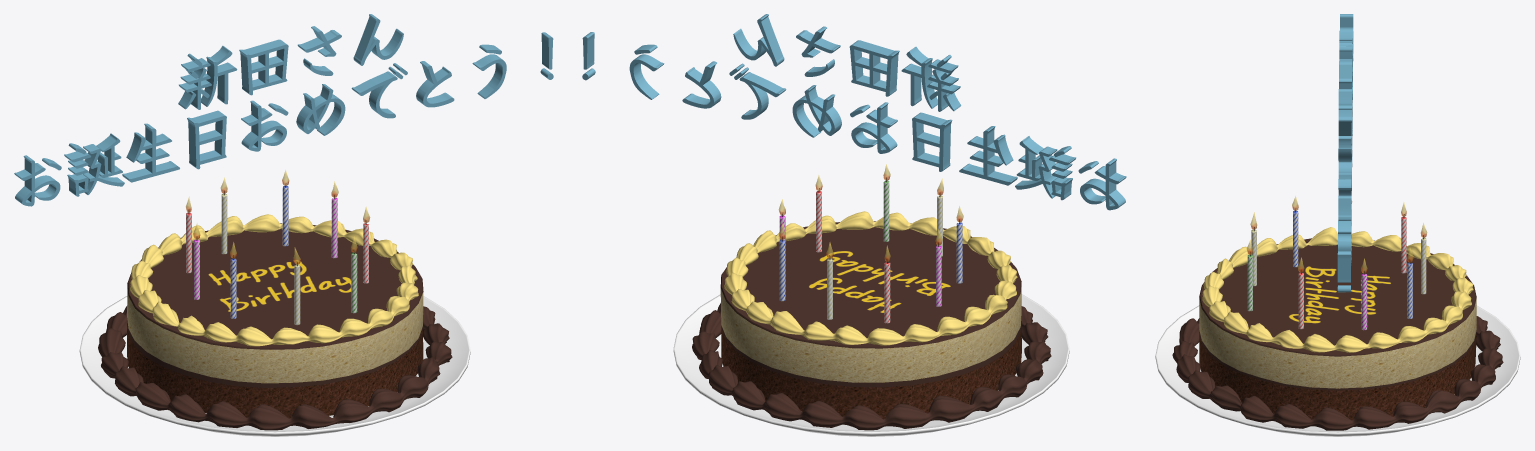
File: asset.glb
The picture shows the model from 3 angles, left to right: view 1: azimuth 30°, elevation 25°; view 2: azimuth 150°, elevation 25°; view 3: azimuth 270°, elevation 25°; orthographic projection. The views are drawn at different scales.
Visible parts, largest first — view 1: cake_Cylinder, cream_Circle.001, yellow-cream_Circle, dish_Cylinder.028, ボディ3, ボディ10, ボディ21, ボディ12, Plane, ボディ26, ボディ20, ボディ31 (+8 smaller); view 2: cake_Cylinder, cream_Circle.001, yellow-cream_Circle, dish_Cylinder.028, ボディ3, ボディ10, ボディ21, ボディ12, Plane, ボディ26, ボディ20, ボディ31 (+8 smaller); view 3: cake_Cylinder, cream_Circle.001, yellow-cream_Circle, dish_Cylinder.028, Plane, ボディ27, ボディ16, ボディ3, ボディ28, candle_Cylinder.012, ボディ14.
Part boxes in pixels (x1,y1,x2,y2): cake_Cylinder: [127, 223, 423, 418]; cream_Circle.001: [98, 306, 452, 430]; yellow-cream_Circle: [130, 214, 418, 346]; dish_Cylinder.028: [79, 296, 470, 436]; ボディ3: [239, 39, 288, 95]; ボディ10: [122, 123, 179, 182]; ボディ21: [187, 110, 226, 169]; ボディ12: [296, 84, 345, 135]; Plane: [208, 260, 351, 311]; ボディ26: [14, 155, 60, 206]; ボディ20: [241, 100, 286, 151]; ボディ31: [201, 45, 237, 106]; cake_Cylinder: [720, 221, 1021, 419]; cream_Circle.001: [692, 303, 1051, 430]; yellow-cream_Circle: [724, 211, 1017, 345]; dish_Cylinder.028: [673, 294, 1069, 436]; ボディ3: [849, 40, 899, 96]; ボディ10: [959, 126, 1017, 185]; ボディ21: [912, 112, 952, 171]; ボディ12: [792, 85, 841, 137]; Plane: [809, 251, 950, 312]; ボディ26: [1080, 158, 1126, 210]; ボディ20: [851, 102, 897, 153]; ボディ31: [901, 46, 937, 108]; cake_Cylinder: [1199, 238, 1476, 420]; cream_Circle.001: [1172, 316, 1503, 430]; yellow-cream_Circle: [1202, 227, 1473, 352]; dish_Cylinder.028: [1155, 305, 1520, 436]; Plane: [1289, 266, 1390, 323]; ボディ27: [1338, 116, 1351, 162]; ボディ16: [1337, 251, 1350, 282]; ボディ3: [1339, 61, 1352, 109]; ボディ28: [1338, 89, 1351, 122]; candle_Cylinder.012: [1361, 273, 1367, 330]; ボディ14: [1338, 195, 1351, 237].
Size of the model in its own units: 3.77 by 2.2 by 2.4.
10 materials, 5 textured.
